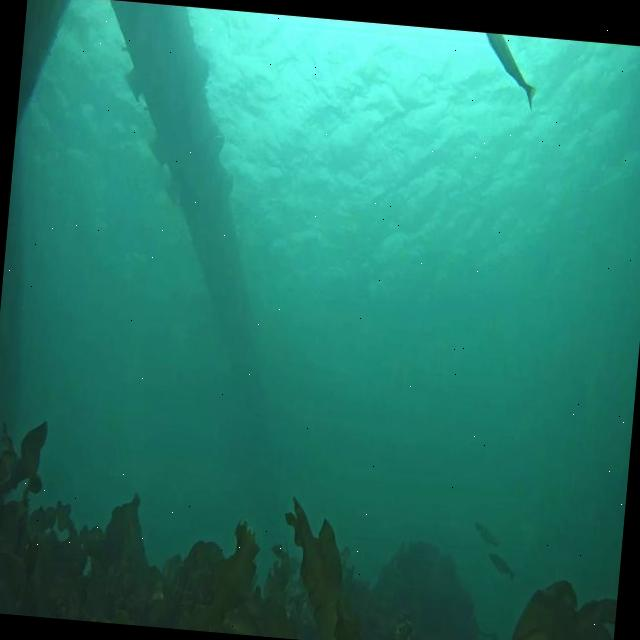fish: (478, 30, 540, 106), (486, 552, 517, 582), (472, 522, 501, 545)
